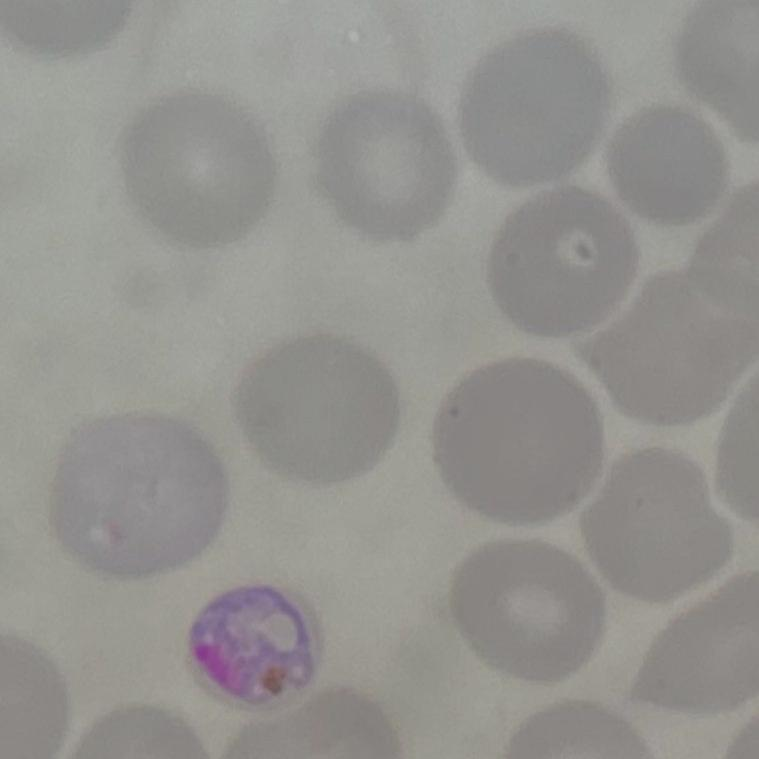Infected: (180, 577, 324, 708)
Uninfected: (426, 353, 605, 528), (48, 413, 223, 569), (234, 329, 401, 481), (584, 275, 759, 416), (450, 537, 607, 688), (464, 25, 617, 174), (120, 95, 275, 240), (586, 449, 728, 606), (490, 185, 637, 336), (320, 91, 456, 241), (606, 101, 731, 221)
